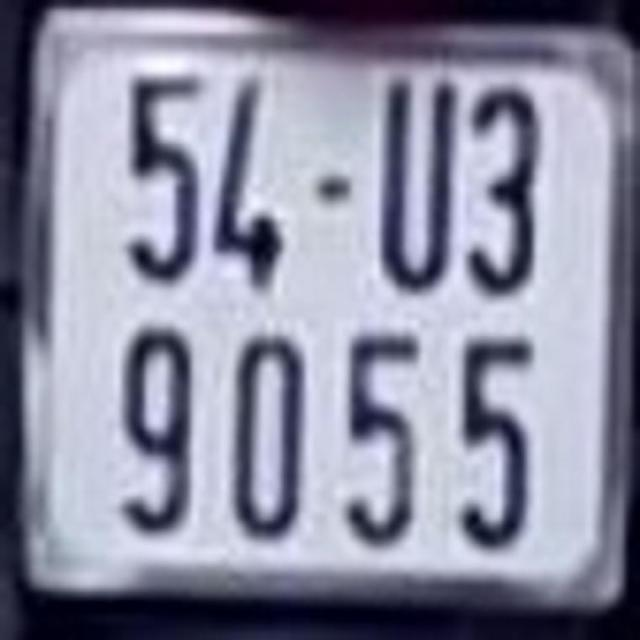0: (234, 326, 301, 542)
3: (468, 83, 536, 288)
4: (216, 67, 284, 290)
5: (457, 337, 538, 552), (123, 67, 196, 288), (346, 322, 419, 540)
9: (119, 319, 194, 528)
U: (382, 67, 452, 290)
